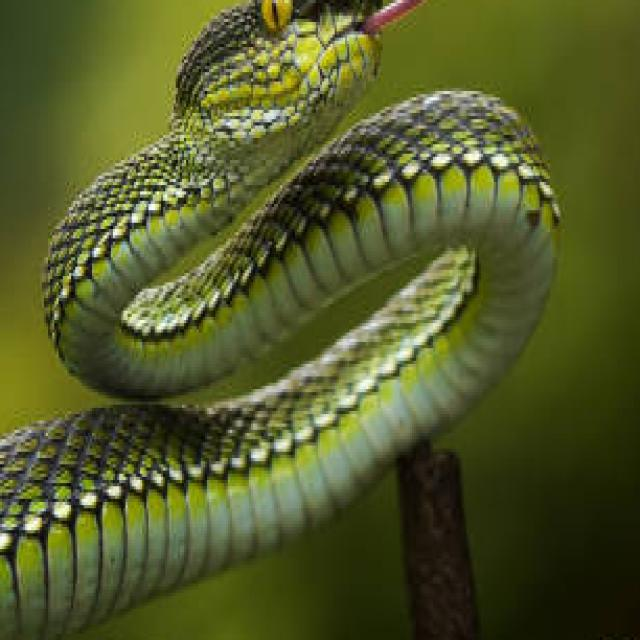Snake: (0, 0, 563, 640)
